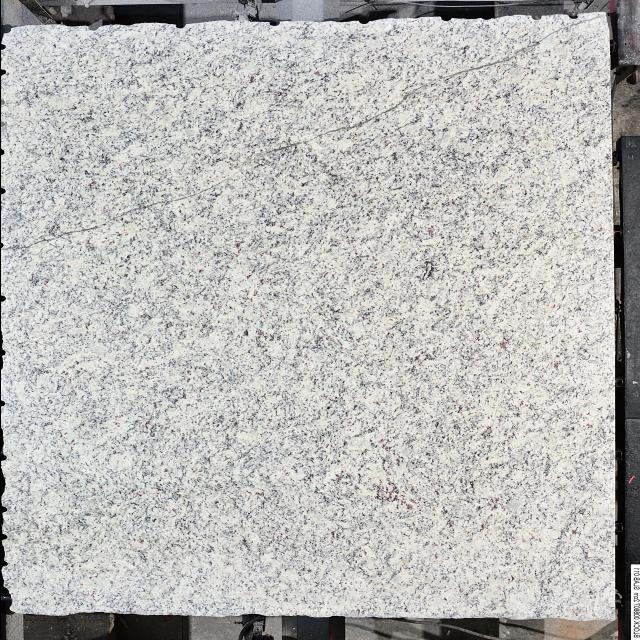chapa: (2, 15, 614, 620)
veio: (85, 24, 101, 32), (173, 22, 187, 30), (530, 14, 544, 22), (565, 13, 579, 20), (267, 20, 281, 26), (0, 531, 8, 541), (0, 504, 8, 513)
